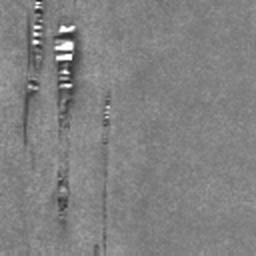Slag inclusion: (24, 0, 84, 132), (93, 88, 114, 256), (22, 78, 42, 146), (56, 164, 70, 214), (54, 220, 68, 230)
